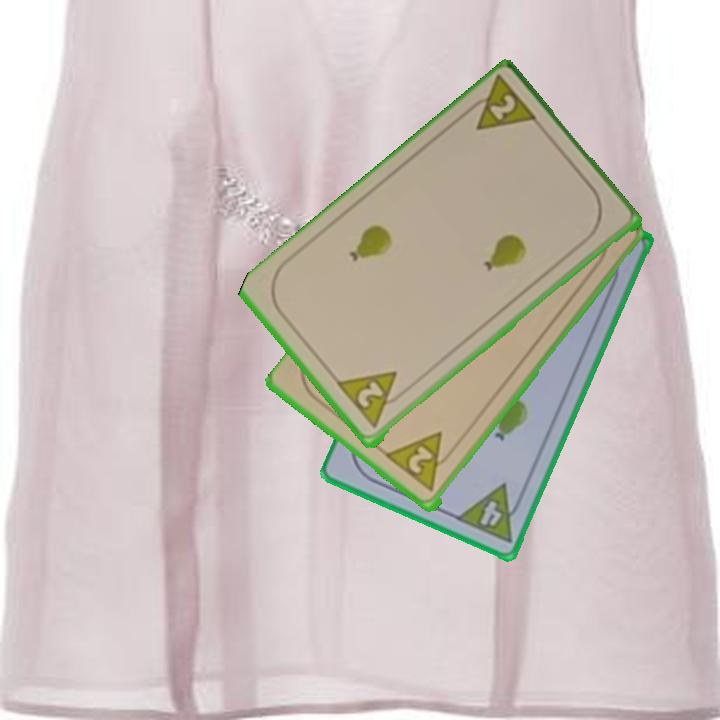2p: (383, 428, 459, 497), (459, 73, 542, 135), (334, 367, 411, 432)
4p: (452, 480, 529, 546)
